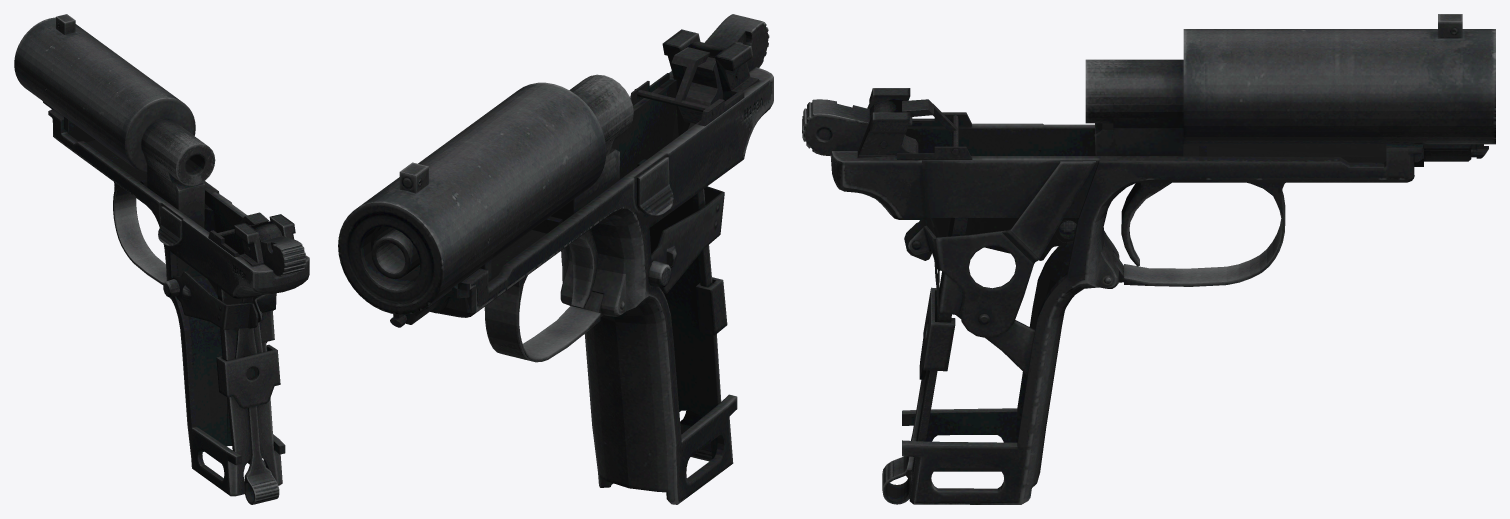
3 renders of one model, left to right at view 1: azimuth 30°, elevation 25°; view 2: azimuth 150°, elevation 25°; view 3: azimuth 270°, elevation 25°, orthographic. The views are drawn at different scales.
Parts seen in each view (by area): view 1: TW_56e0598dd2720bb5668b45a6_PZ_Import; view 2: TW_56e0598dd2720bb5668b45a6_PZ_Import; view 3: TW_56e0598dd2720bb5668b45a6_PZ_Import.
Part boxes in pixels (x1=…): TW_56e0598dd2720bb5668b45a6_PZ_Import: x1=14, y1=14, x2=309, y2=504; TW_56e0598dd2720bb5668b45a6_PZ_Import: x1=338, y1=14, x2=773, y2=504; TW_56e0598dd2720bb5668b45a6_PZ_Import: x1=802, y1=14, x2=1495, y2=504.
Bounding box in the file's own units: 0.0183 × 0.1075 × 0.0818.
1 material, 1 textured.
